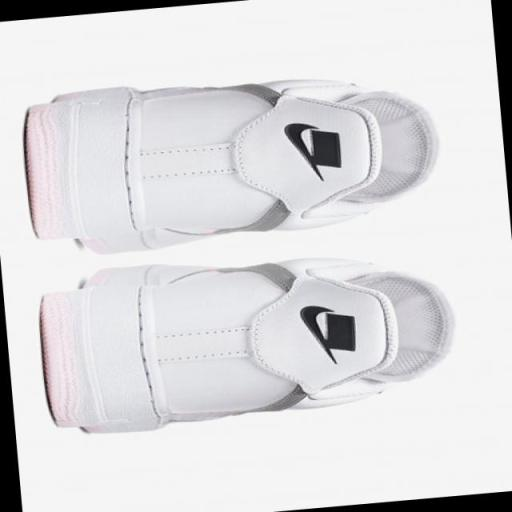Nike: (297, 303, 332, 354)
